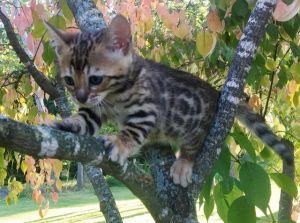bengal: (39, 13, 144, 113)
